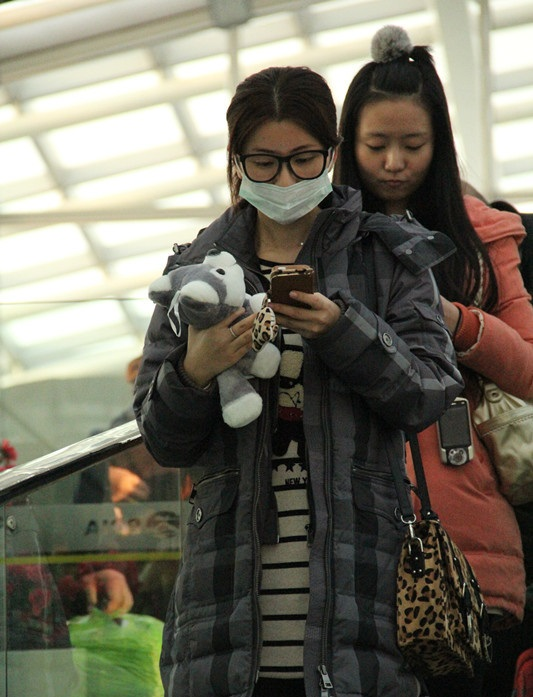face: (355, 98, 432, 202)
face_mask: (240, 117, 326, 222)
